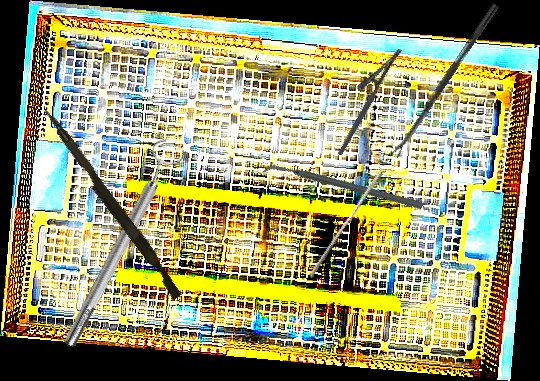Chopper: (262, 112, 425, 264)
Fixation Ring: (51, 135, 190, 353)
Needle Holder: (322, 39, 404, 157)
Pusher: (36, 107, 187, 301), (308, 167, 384, 282)
Surgical Spoon: (390, 2, 500, 158)
